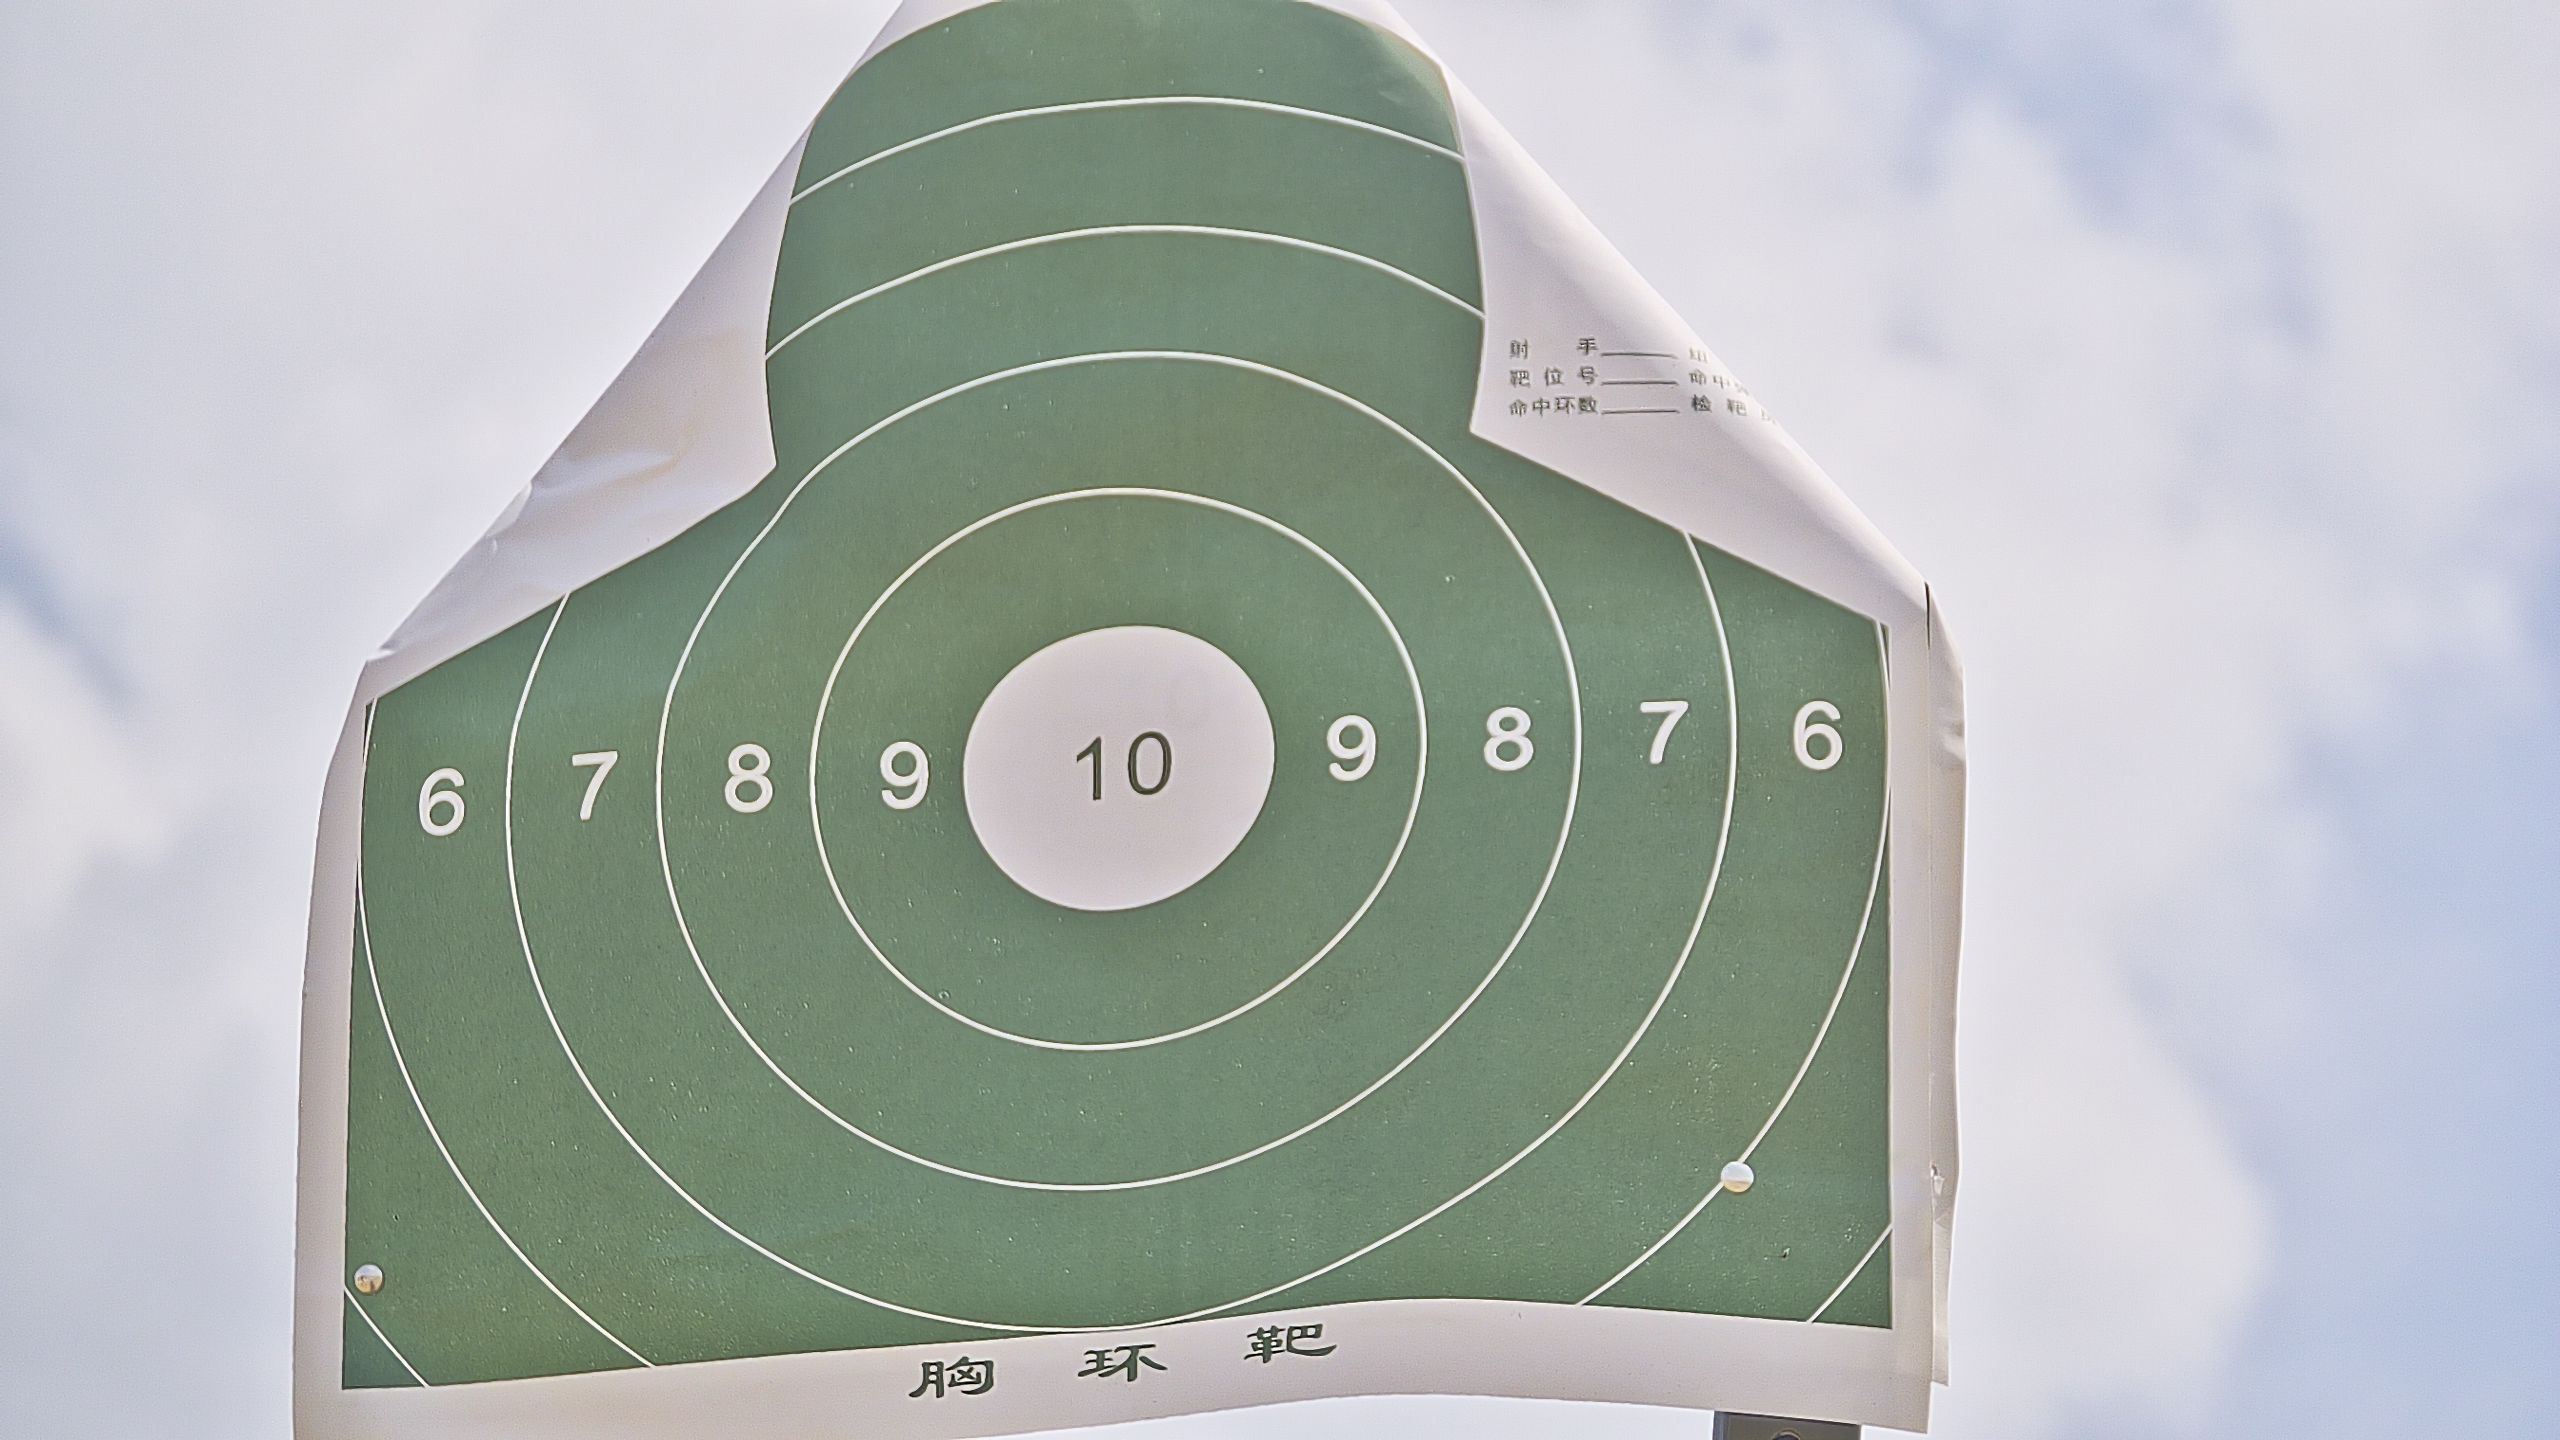target: (345, 2, 1897, 1380)
ten: (956, 622, 1282, 913)
